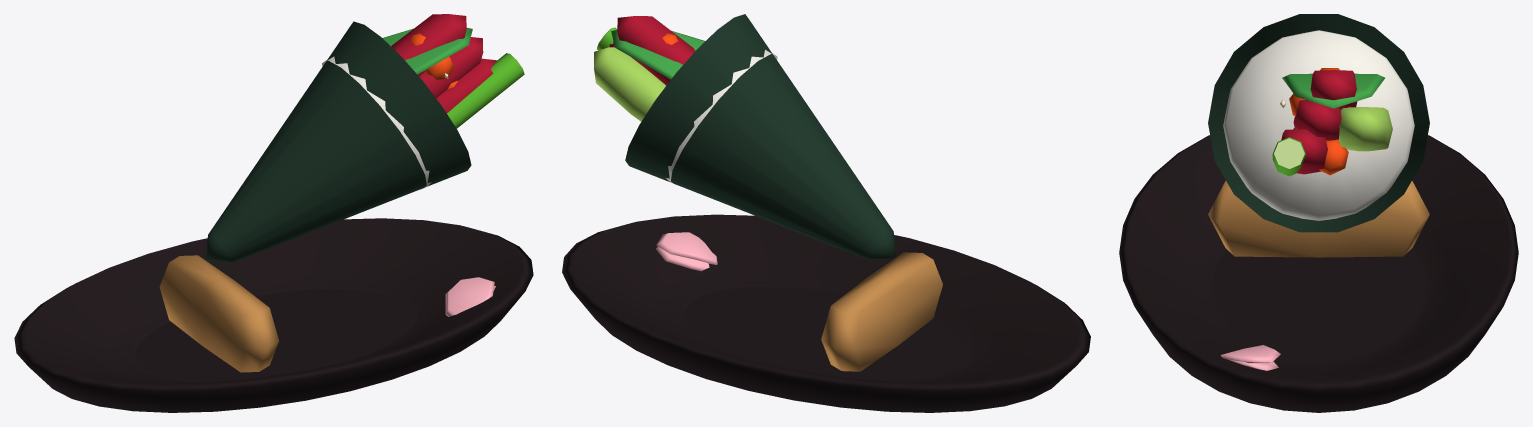
The picture shows the model from 3 angles, left to right: view 1: azimuth 30°, elevation 25°; view 2: azimuth 150°, elevation 25°; view 3: azimuth 270°, elevation 25°; orthographic projection. The views are drawn at different scales.
Visible parts, largest first — view 1: plate, nori, plate_well, stand, tuna, cucumber, ginger, shiso, rice, ikura; view 2: plate, nori, plate_well, stand, avocado, tuna, ginger, shiso, rice; view 3: plate, rice, plate_well, nori, stand, tuna, avocado, shiso, ginger, ikura, cucumber_end.
Boxes of the visible parts, left/top/right/bottom form: plate: left=14, top=218, right=533, bottom=412; nori: left=205, top=21, right=471, bottom=263; plate_well: left=135, top=288, right=412, bottom=380; stand: left=159, top=255, right=278, bottom=372; tuna: left=391, top=14, right=496, bottom=113; cucumber: left=447, top=53, right=524, bottom=128; ginger: left=445, top=277, right=495, bottom=316; shiso: left=382, top=28, right=472, bottom=74; rice: left=322, top=56, right=431, bottom=189; ikura: left=410, top=33, right=458, bottom=88; plate: left=562, top=214, right=1090, bottom=412; nori: left=625, top=14, right=895, bottom=260; plate_well: left=685, top=286, right=967, bottom=380; stand: left=821, top=252, right=942, bottom=371; avocado: left=594, top=47, right=665, bottom=121; tuna: left=609, top=16, right=695, bottom=85; ginger: left=656, top=232, right=717, bottom=271; shiso: left=611, top=30, right=705, bottom=79; rice: left=666, top=49, right=777, bottom=185; plate: left=1119, top=135, right=1518, bottom=412; rice: left=1223, top=30, right=1414, bottom=220; plate_well: left=1212, top=249, right=1425, bottom=360; nori: left=1208, top=14, right=1429, bottom=232; stand: left=1208, top=181, right=1429, bottom=257; tuna: left=1281, top=70, right=1357, bottom=174; avocado: left=1338, top=107, right=1392, bottom=151; shiso: left=1282, top=73, right=1385, bottom=108; ginger: left=1220, top=345, right=1280, bottom=370; ikura: left=1289, top=68, right=1348, bottom=175; cucumber_end: left=1274, top=138, right=1304, bottom=168.
Bounding box in the file's own units: 0.18 × 0.1061 × 0.108.
